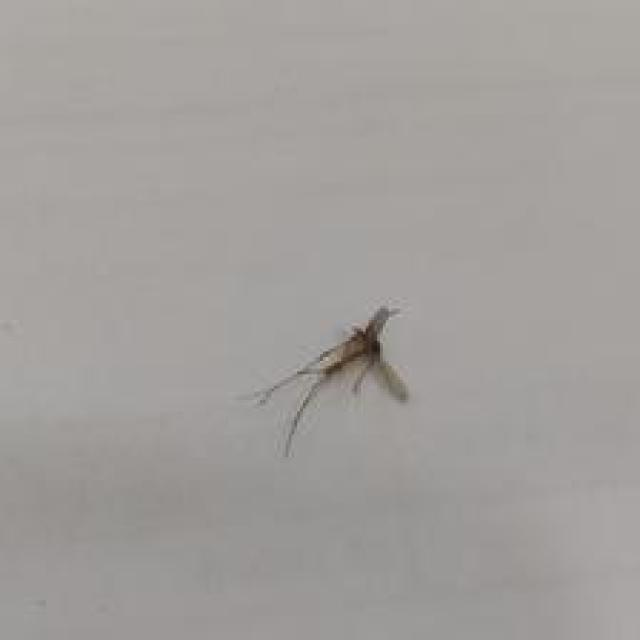Culex: (250, 302, 410, 458)
